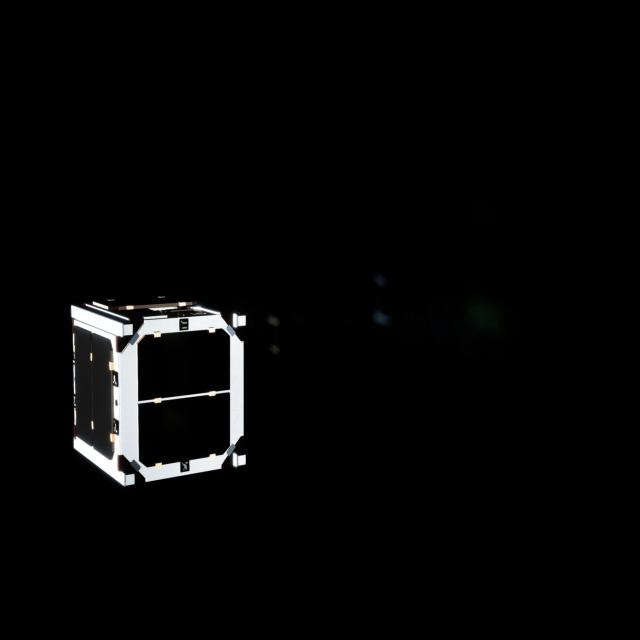satellite: (66, 290, 262, 493)
